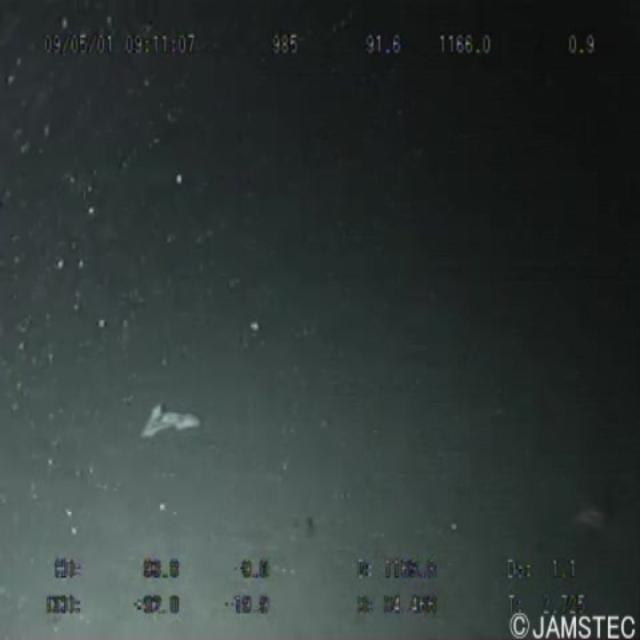Plastic: (137, 385, 210, 468)
